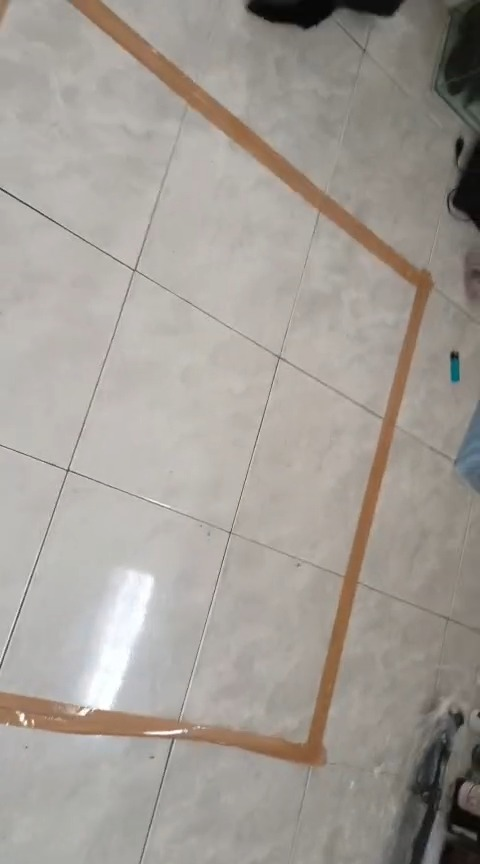floor marking: (0, 0, 431, 764)
